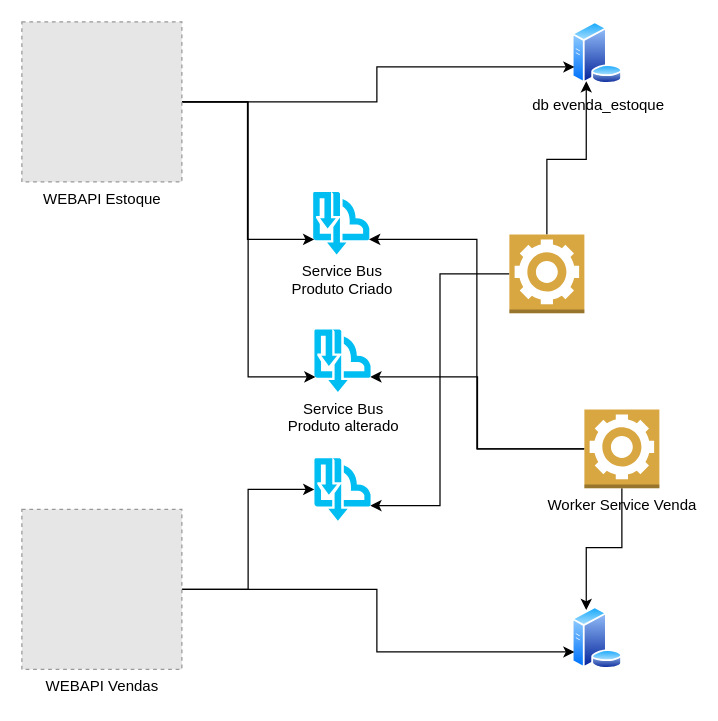
This 718x721 diagram has some shape labels left out. Grey dashed boxes stand in for pictures. Here are the shapes that lost their labels. From the top down, the centre of each, then its label:
the point at 546,273: Worker Service Estoque
the point at 342,489: Service Bus Produto Vendido
the point at 596,637: db evenda_venda
